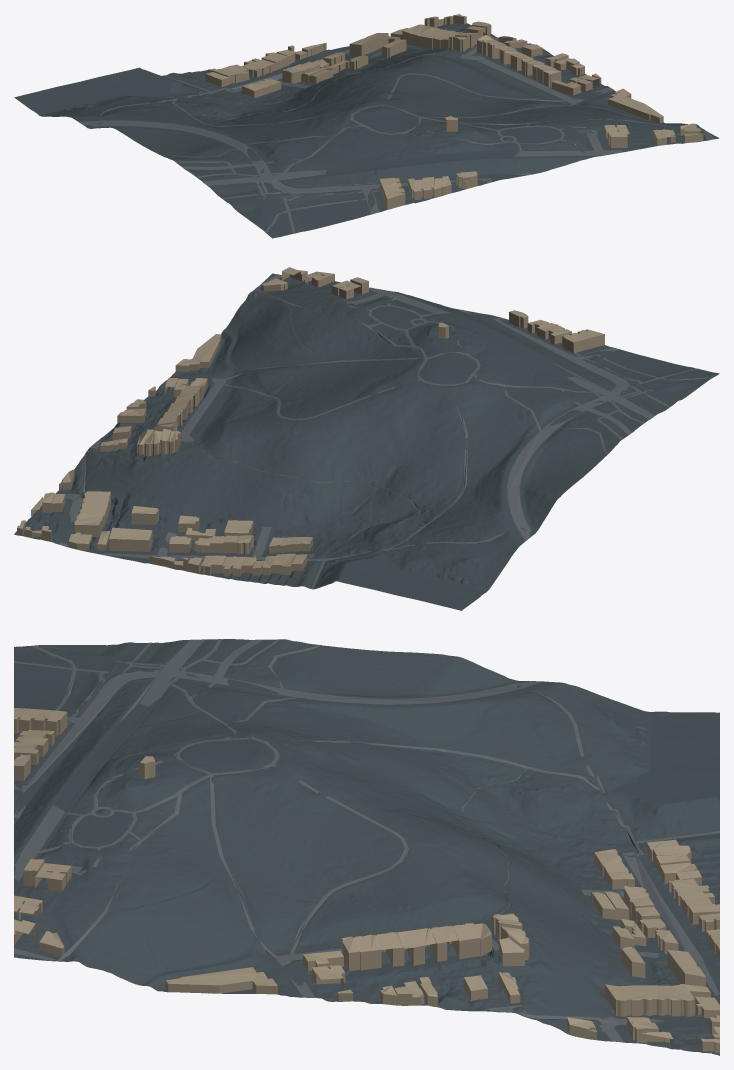
The model's file is epsg26910-1437-10871.lod0.glb.
3 renders of one model, top to bottom at view 1: azimuth 30°, elevation 25°; view 2: azimuth 150°, elevation 25°; view 3: azimuth 270°, elevation 25°, orthographic. The views are drawn at different scales.
Visible parts, largest first — view 1: epsg26910-1437-10871-lod0; view 2: epsg26910-1437-10871-lod0; view 3: epsg26910-1437-10871-lod0.
Boxes of the visible parts, bbox=[...] form: epsg26910-1437-10871-lod0: bbox=[14, 14, 719, 238]; epsg26910-1437-10871-lod0: bbox=[14, 267, 719, 610]; epsg26910-1437-10871-lod0: bbox=[14, 639, 719, 1055].
Bounding box in the file's own units: 384 × 90.22 × 384.
